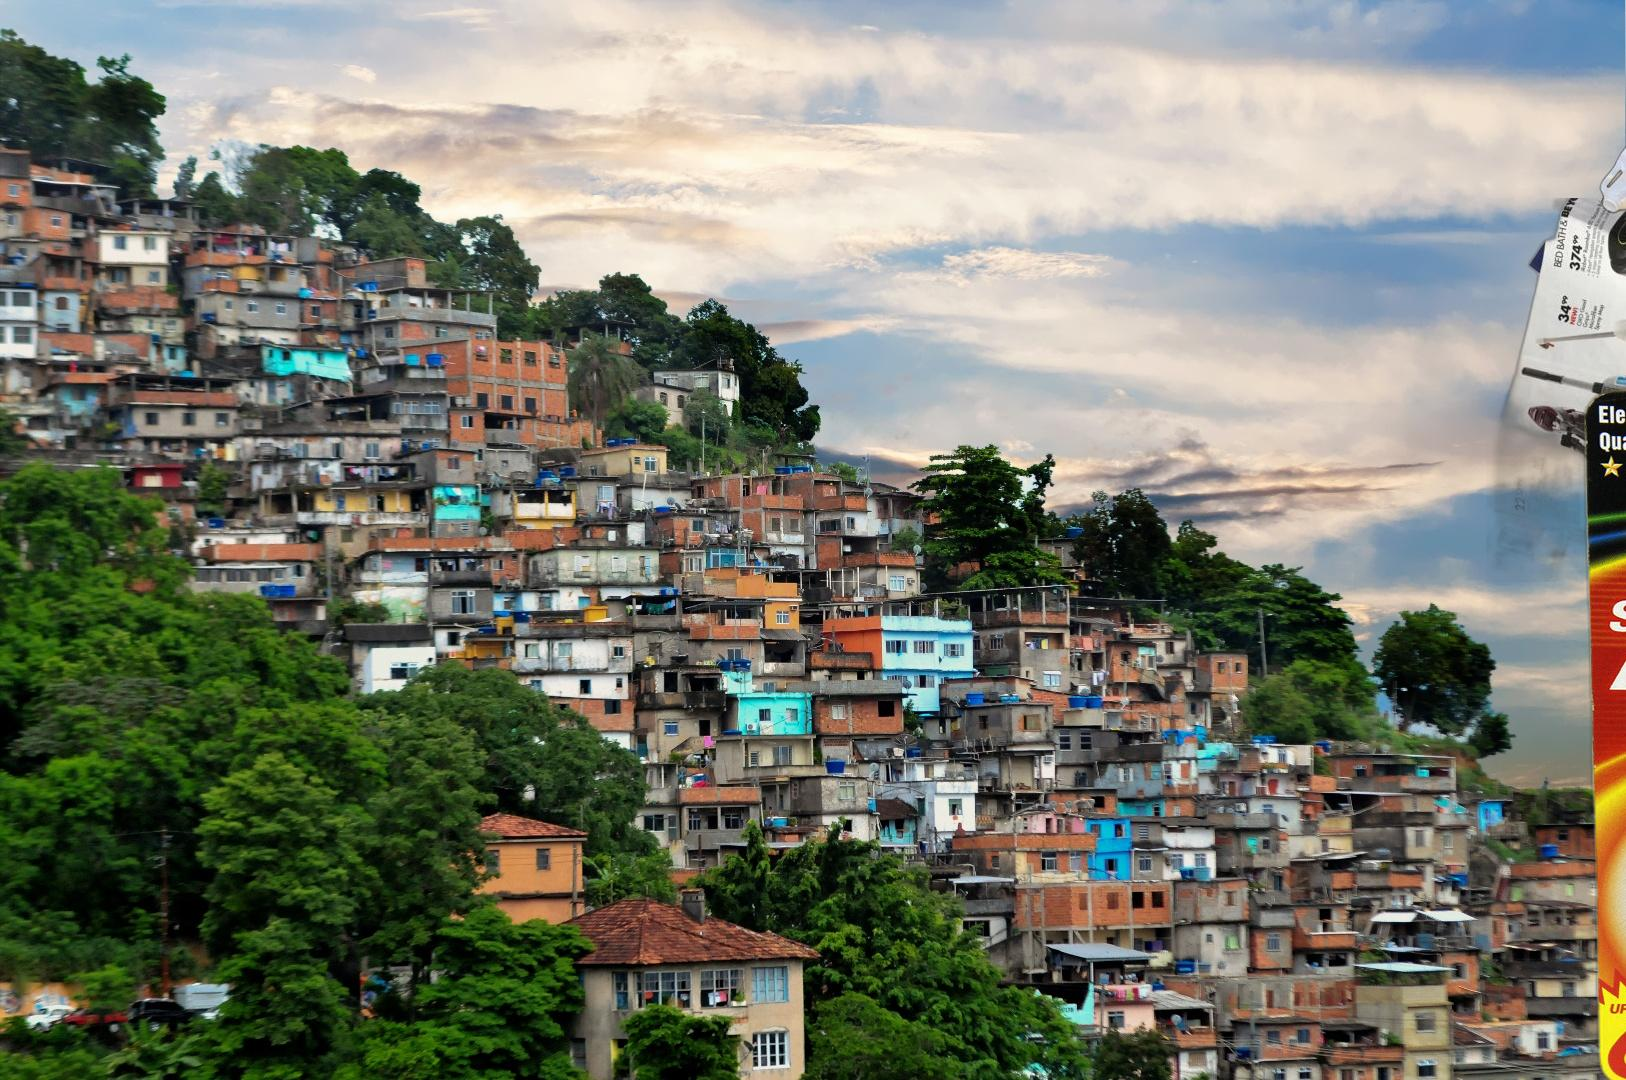battery: (1577, 383, 1626, 1080)
paper: (1486, 198, 1626, 582)
plastic-bottles: (1596, 116, 1626, 219)
trashbox-cardboard: (507, 1070, 1456, 1080)
